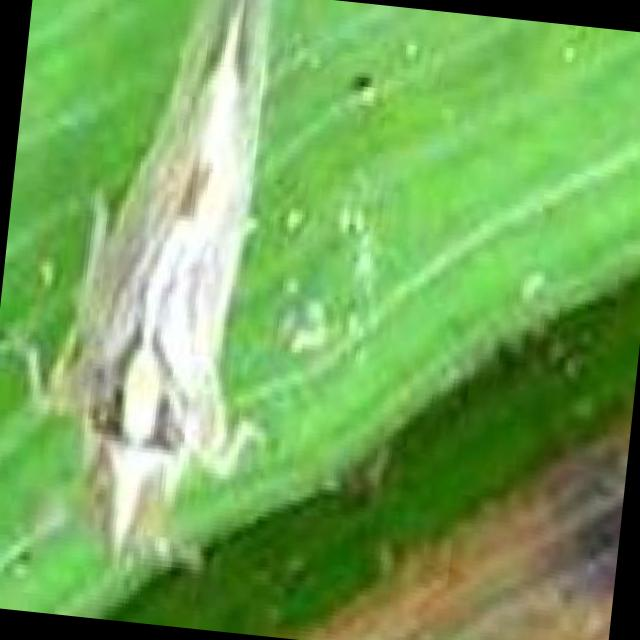brown-planthopper: (27, 0, 312, 573)
